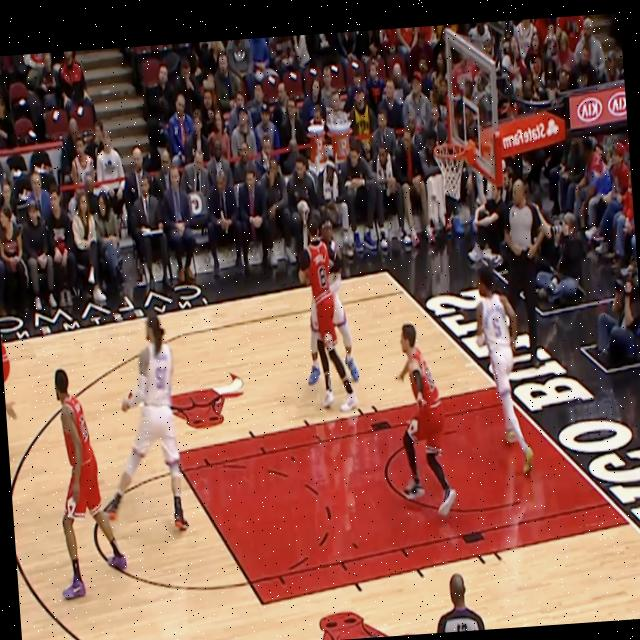no foul: (32, 298, 201, 620), (284, 190, 368, 422)
